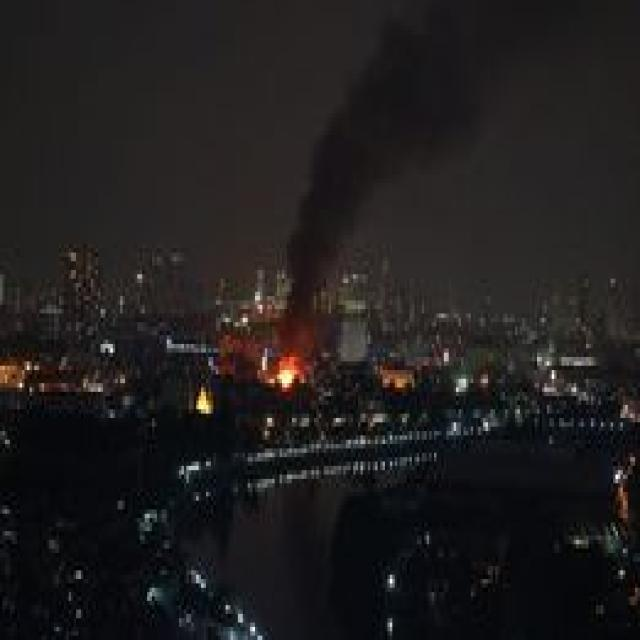Fire: (272, 356, 296, 389)
Smoke: (382, 11, 501, 136), (320, 126, 378, 197), (299, 203, 342, 295)
